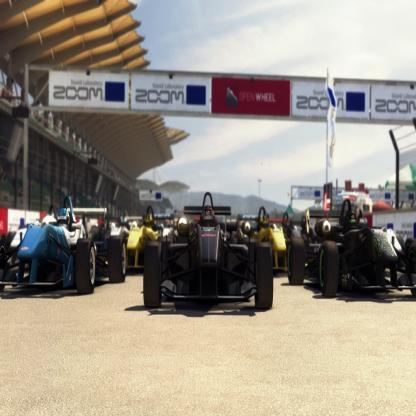Car: (1, 185, 416, 317)
